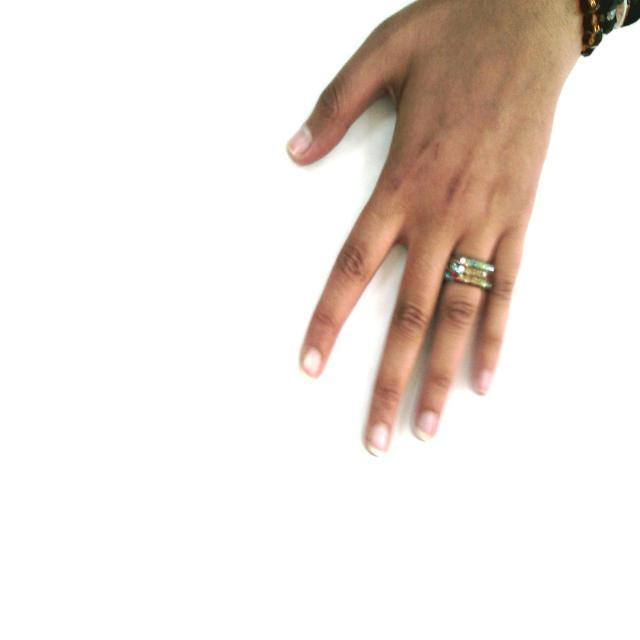Fingernail: (369, 423, 391, 458), (289, 127, 310, 154), (416, 411, 436, 439), (303, 350, 321, 375), (478, 370, 491, 394)
